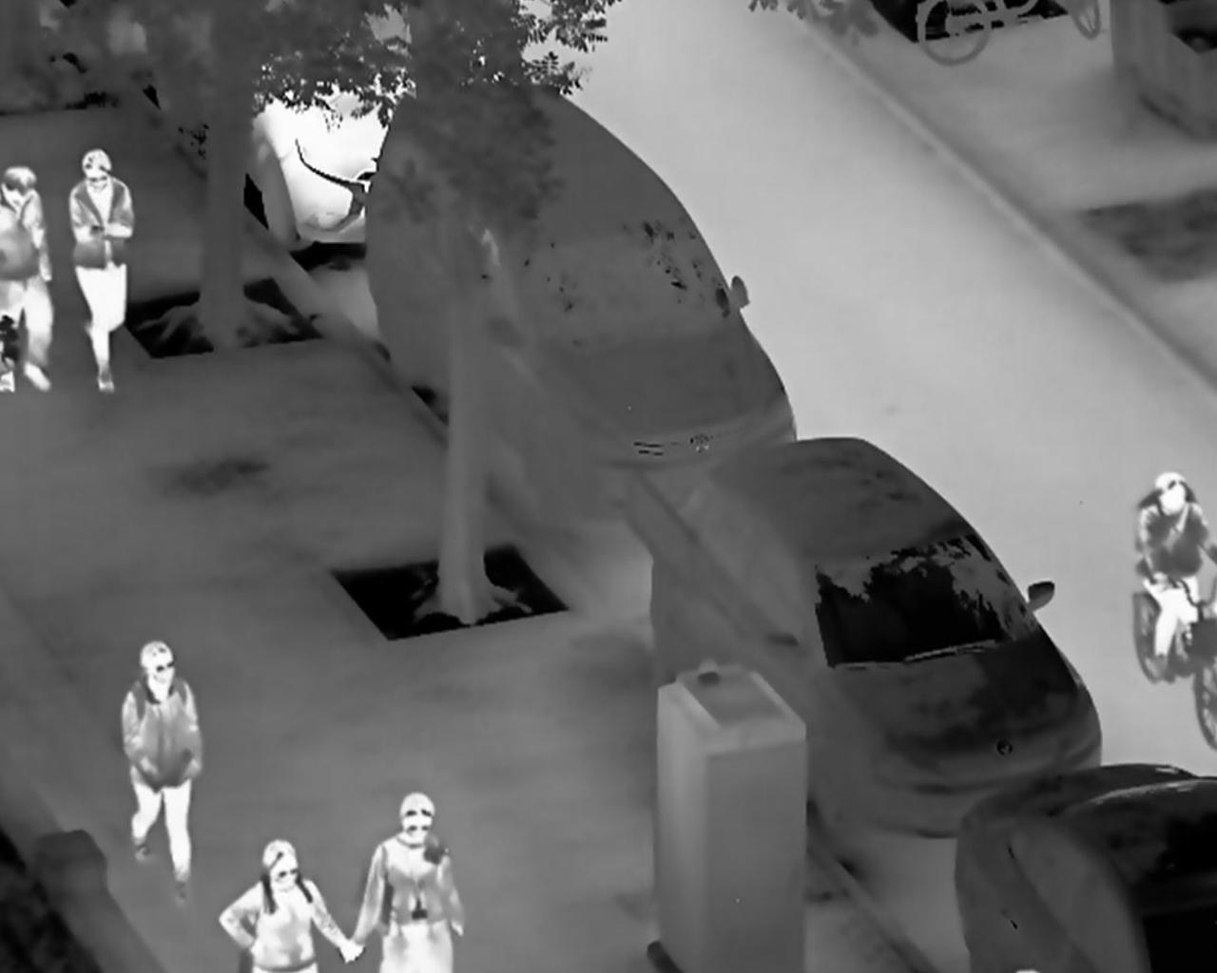person: (119, 639, 203, 908), (350, 791, 466, 973), (216, 838, 360, 973), (1130, 469, 1217, 680), (65, 146, 137, 396)
